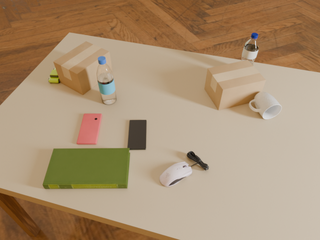book: (43, 148, 130, 189)
bottle: (97, 56, 116, 104), (241, 33, 259, 65)
box: (54, 41, 112, 95), (205, 60, 266, 110)
cup: (249, 92, 281, 119)
mouse: (160, 162, 192, 186)
phone: (77, 114, 102, 144), (128, 120, 146, 150)
toy_car: (49, 68, 60, 83)
